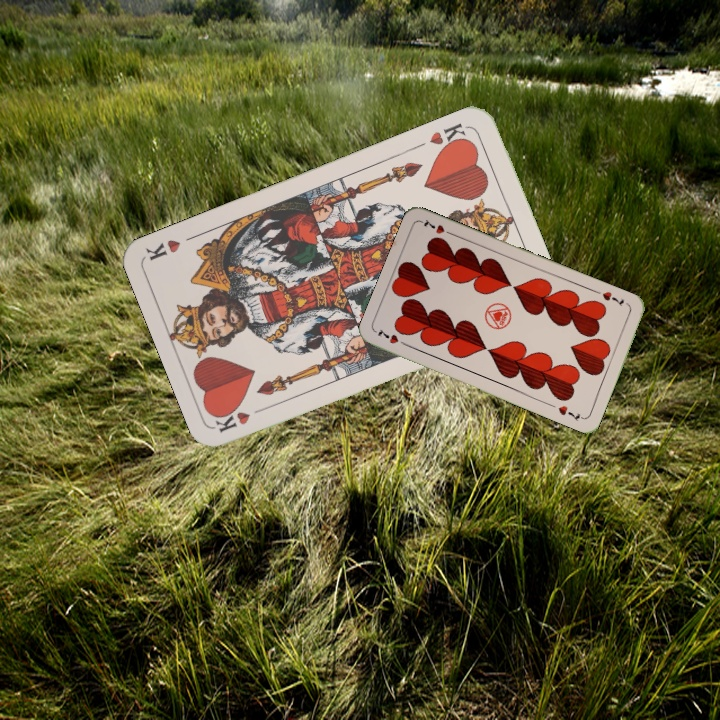H7: (373, 325, 411, 349), (598, 287, 627, 309)
HK: (212, 402, 271, 435), (425, 119, 471, 154)
